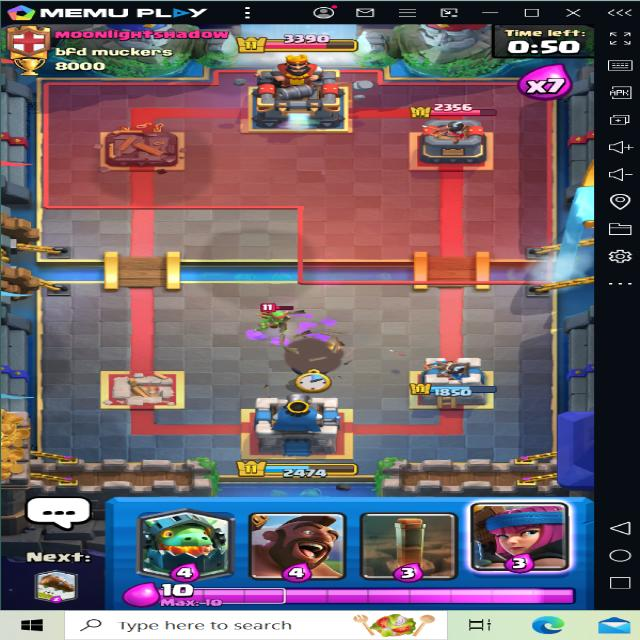Speargoblin: (260, 305, 300, 334)
